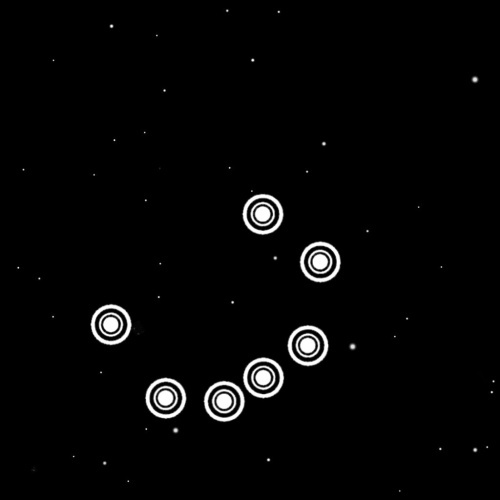corona_borealis: (85, 185, 344, 421)
